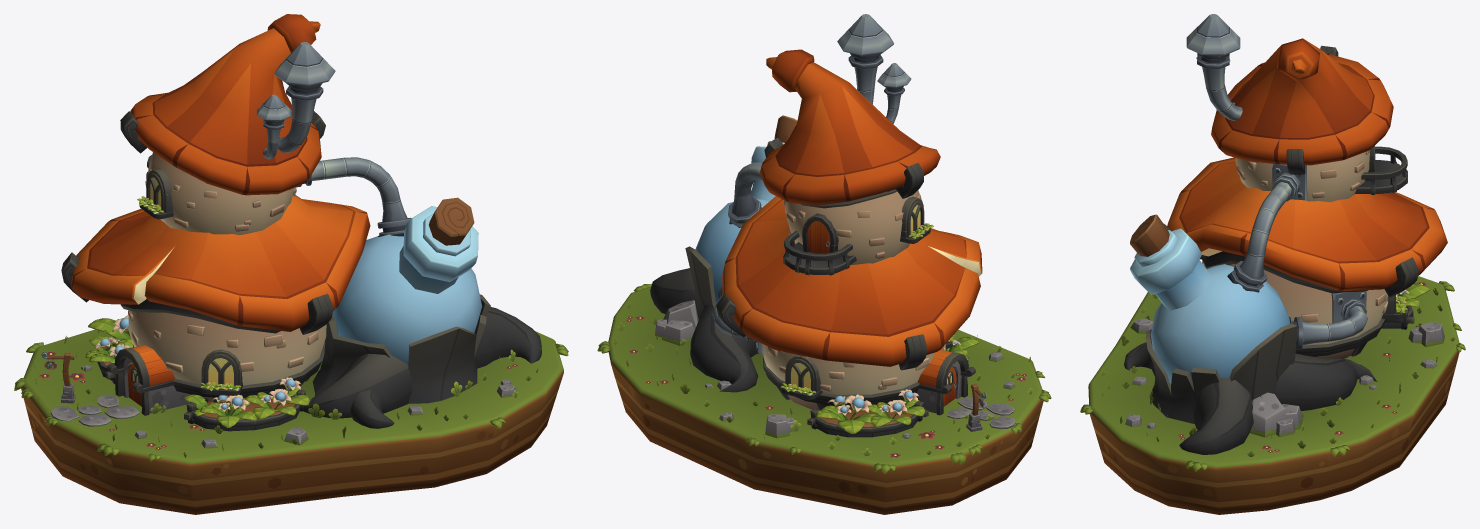
File: Mushroom_Potion.fbx
The picture shows the model from 3 angles, left to right: view 1: azimuth 30°, elevation 25°; view 2: azimuth 150°, elevation 25°; view 3: azimuth 270°, elevation 25°; orthographic projection. The views are drawn at different scales.
Parts seen in each view (by area): view 1: House_Potion, Base_2, Deco_plant.001, Deco_plant, Sign_potion; view 2: House_Potion, Base_2, Deco_plant, Rock.006, Rock.005, Sign_potion, Rock.002; view 3: House_Potion, Base_2, Rock.005, Deco_plant, Rock.002.
Boxes of the visible parts, x1,y1,x2,y2 form: House_Potion: (61, 14, 541, 428); Base_2: (14, 318, 568, 514); Deco_plant.001: (184, 377, 311, 431); Deco_plant: (85, 315, 133, 384); Sign_potion: (41, 352, 75, 403); House_Potion: (650, 14, 982, 415); Base_2: (597, 283, 1051, 514); Deco_plant: (807, 389, 928, 437); Rock.006: (662, 320, 694, 345); Rock.005: (663, 300, 698, 329); Sign_potion: (966, 383, 986, 431); Rock.002: (765, 414, 789, 438); House_Potion: (1124, 14, 1447, 454); Base_2: (1080, 276, 1465, 514); Rock.005: (1249, 392, 1287, 437); Deco_plant: (1381, 283, 1430, 329); Rock.002: (1418, 322, 1444, 347).
Size of the model in its own units: 379 by 324 by 290.
